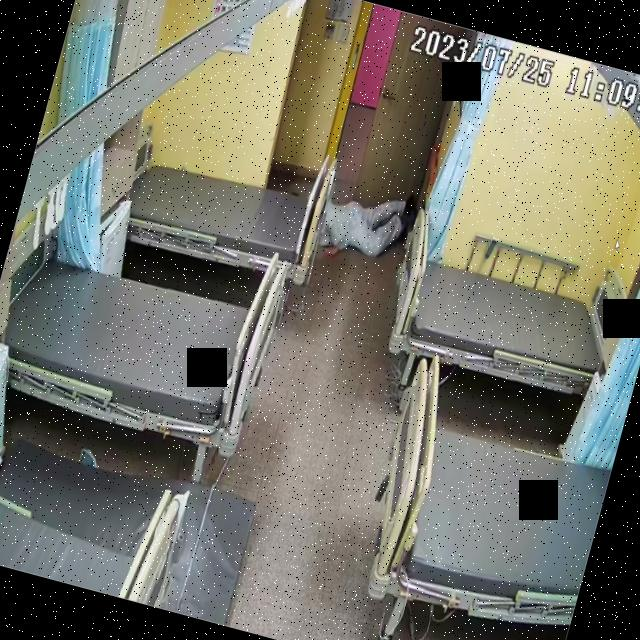bed: (352, 349, 628, 640), (0, 239, 280, 454), (376, 232, 634, 408), (120, 141, 328, 285)
fall: (314, 163, 419, 274)
patient: (315, 165, 419, 271)
